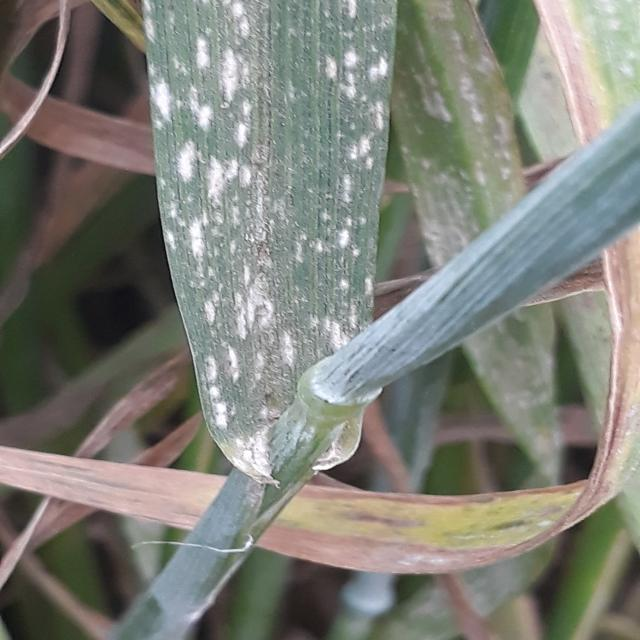powder_mildew: (136, 0, 400, 485), (0, 441, 622, 578), (531, 3, 640, 457), (397, 1, 542, 232), (0, 0, 128, 163), (459, 301, 556, 448)
